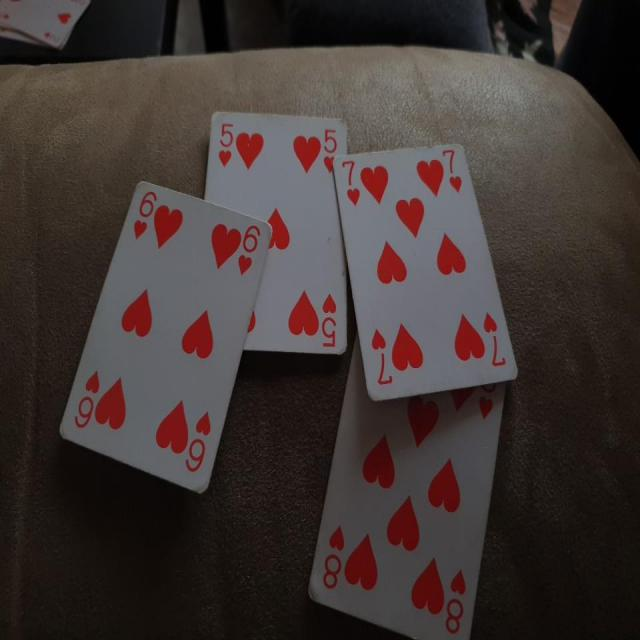5 Hearts: (206, 103, 356, 368)
6 Hearts: (52, 180, 270, 502)
7 Hearts: (334, 138, 523, 413)
8 Hearts: (298, 337, 514, 637)
